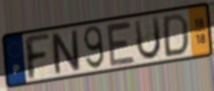9: (81, 24, 106, 71)
D: (162, 12, 190, 59)
E: (105, 20, 137, 68)
F: (22, 32, 53, 82)
N: (49, 28, 82, 77)
U: (132, 14, 163, 62)
